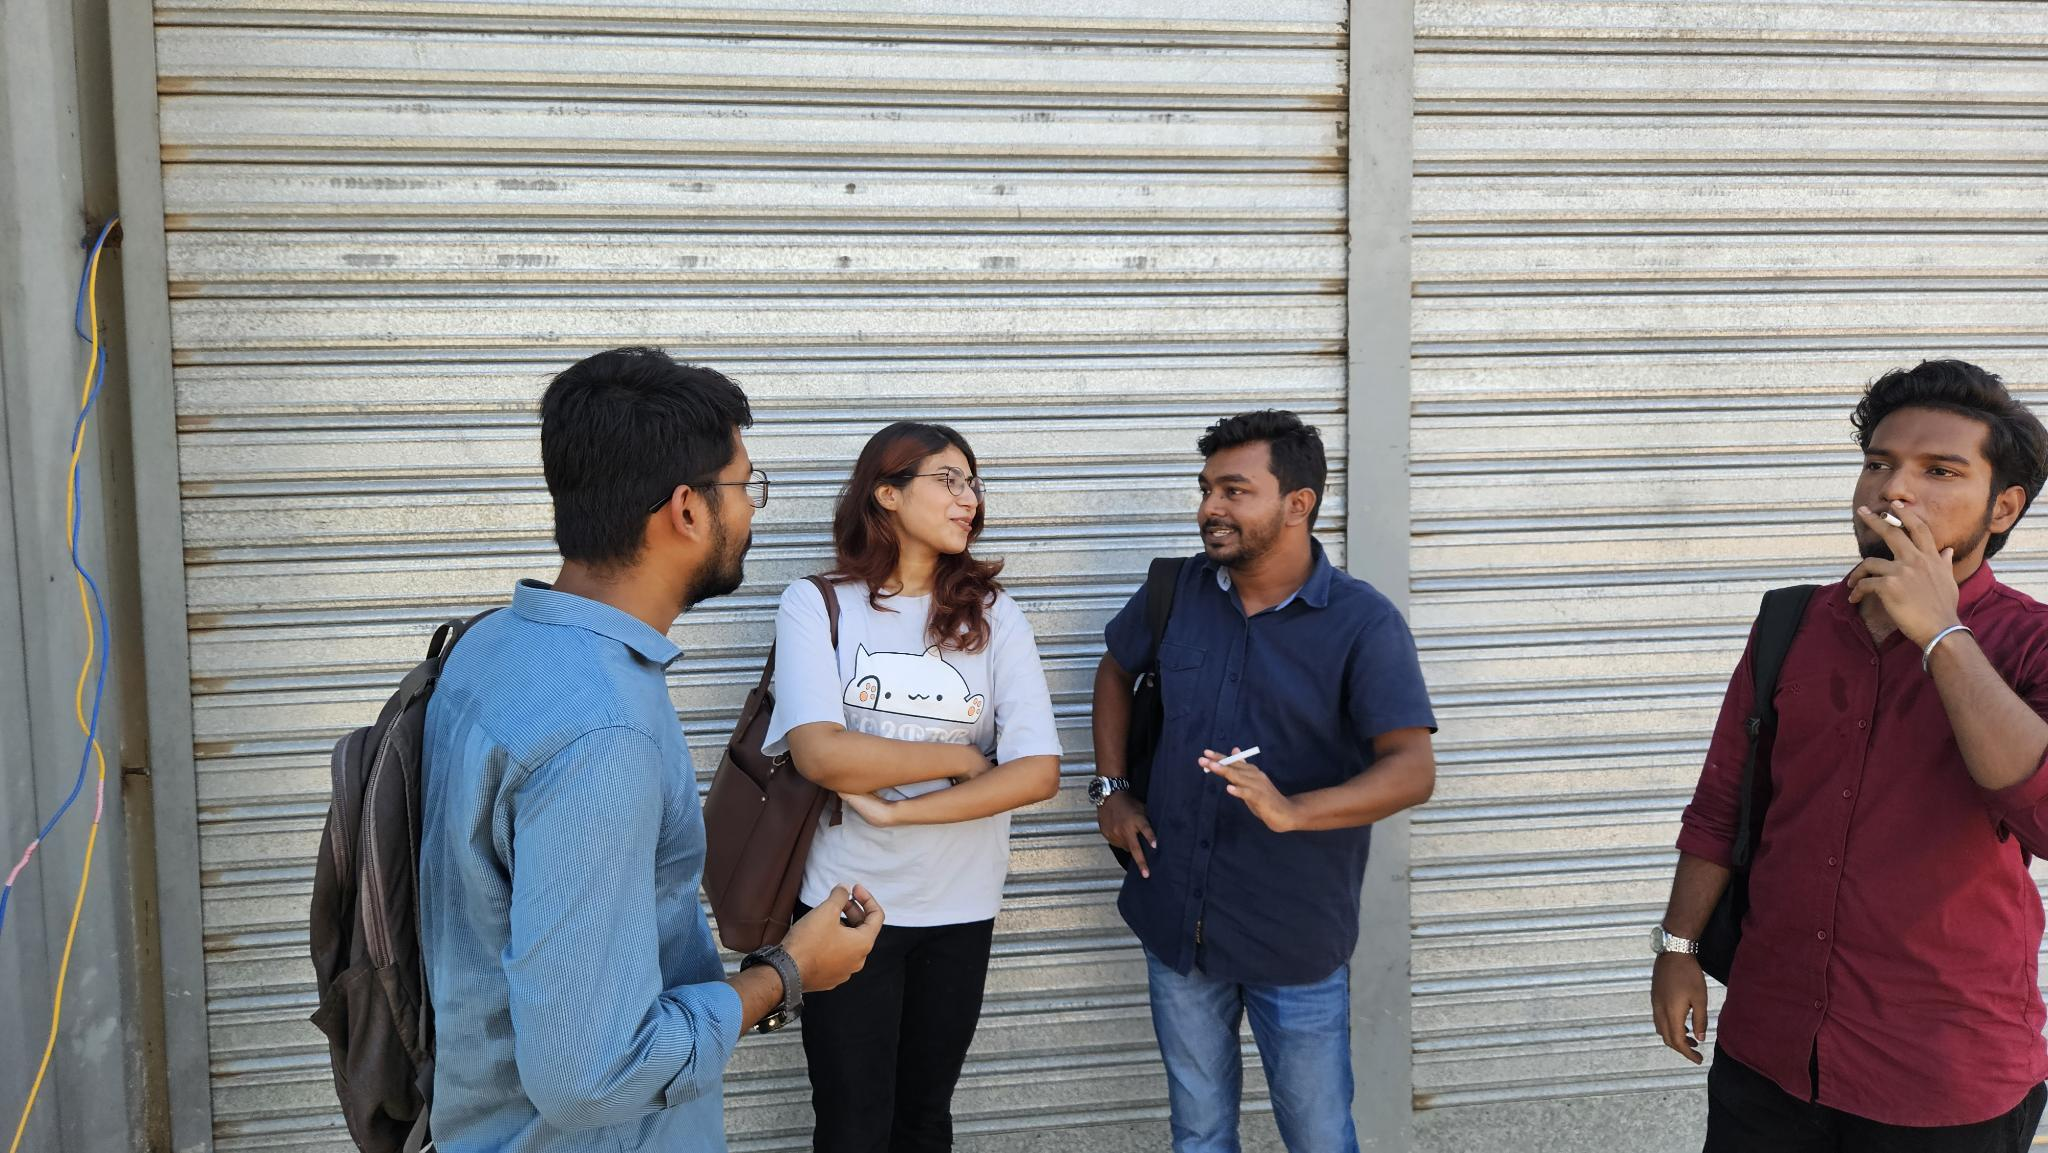cigarette: (1201, 744, 1263, 773), (1878, 510, 1907, 532)
nonSmoker: (309, 347, 886, 1153), (705, 419, 1061, 1153)
smoker: (1649, 359, 2048, 1153), (1086, 408, 1436, 1153)
